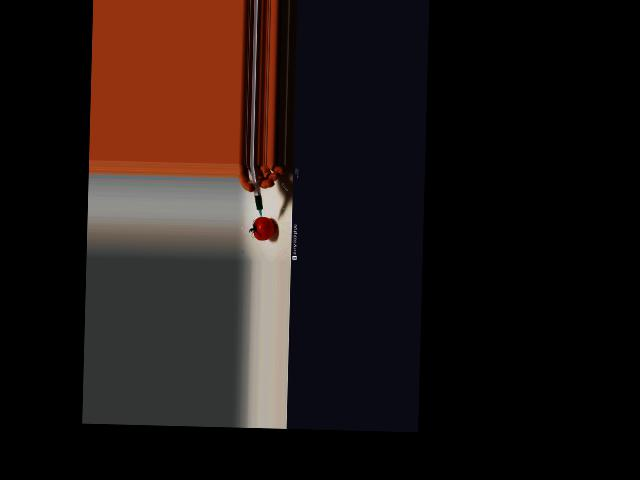tomato: (253, 216, 275, 240)
